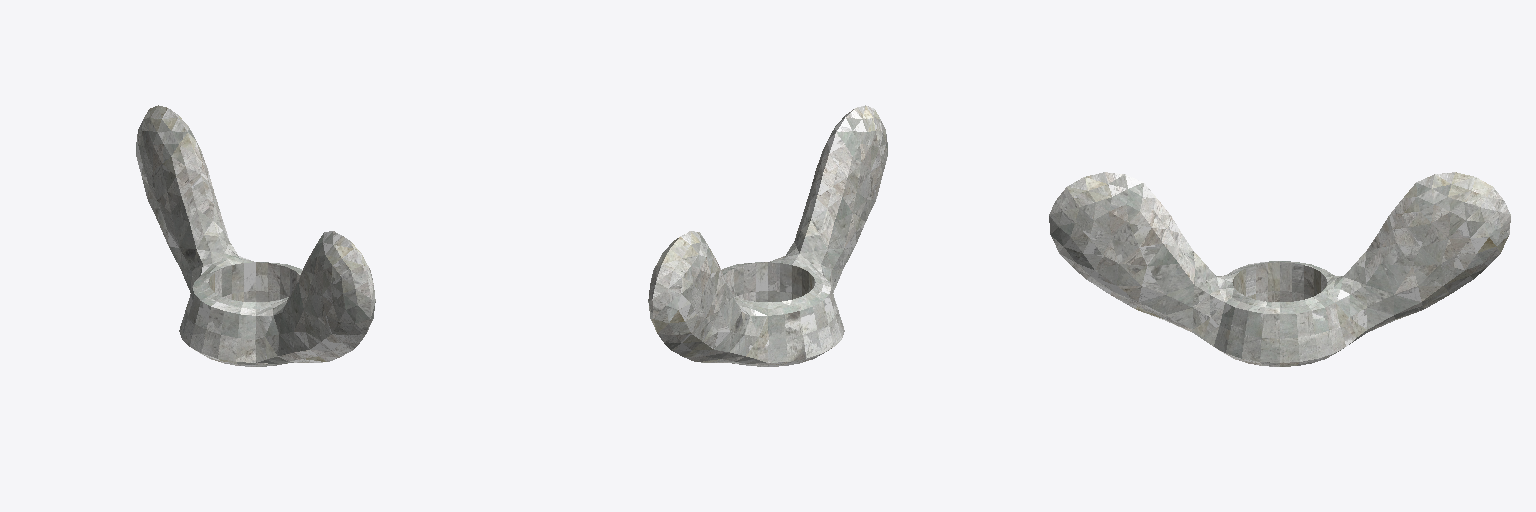
3 renders of one model, left to right at view 1: azimuth 30°, elevation 25°; view 2: azimuth 150°, elevation 25°; view 3: azimuth 270°, elevation 25°, orthographic.
Parts seen in each view (by area): view 1: bflyscrew.LOD.002; view 2: bflyscrew.LOD.002; view 3: bflyscrew.LOD.002.
Boxes of the visible parts, x1,y1,x2,y2 form: bflyscrew.LOD.002: [136, 105, 375, 366]; bflyscrew.LOD.002: [648, 105, 887, 366]; bflyscrew.LOD.002: [1049, 172, 1510, 366].
Bounding box in the file's own units: 0.4845 × 0.5835 × 1.46.
1 materials, 1 textured.